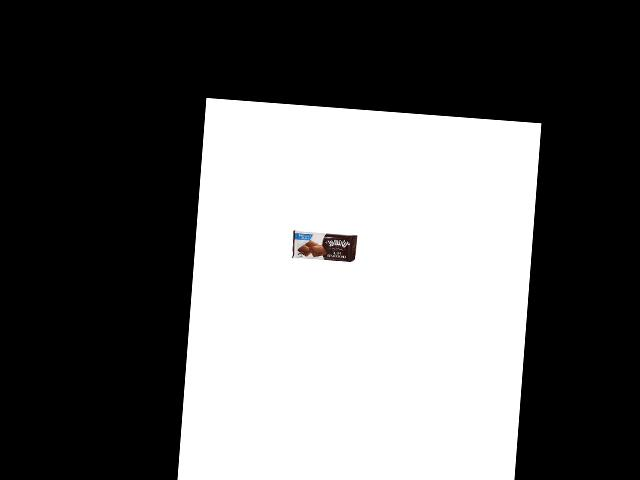chocolate: (290, 229, 356, 264)
